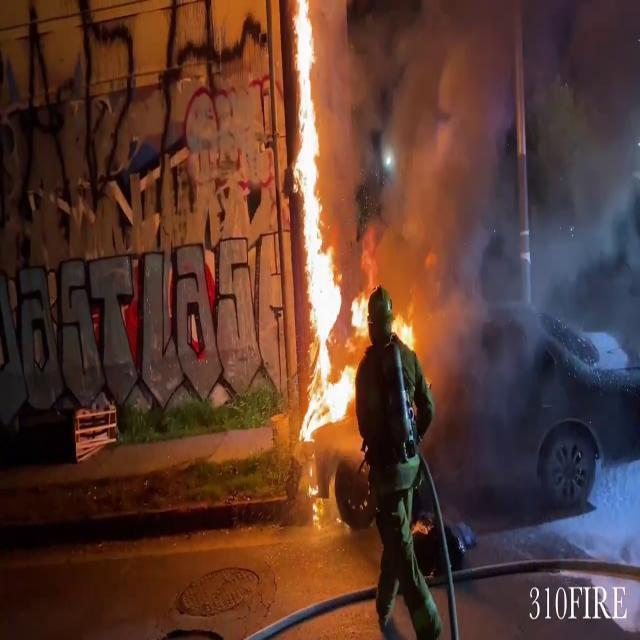Fire: (288, 0, 357, 441)
Smoke: (336, 0, 640, 371)
